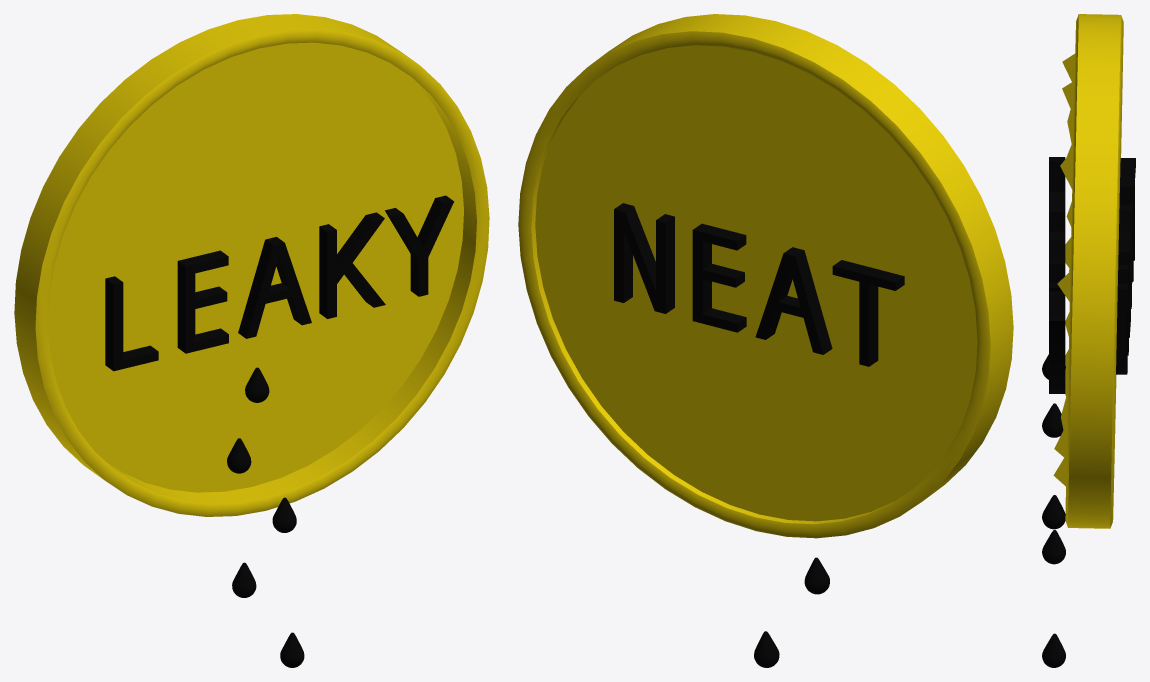
The model's file is LEKAY_COIN_FINAL.fbx.
3 views of the same model, side by side, from view 1: azimuth 30°, elevation 25°; view 2: azimuth 150°, elevation 25°; view 3: azimuth 270°, elevation 25° (orthographic). The views are drawn at different scales.
Visible parts, largest first — view 1: NEAT_COIN, LEAKY_TEXT; view 2: NEAT_COIN, NEAT_TEXT; view 3: NEAT_COIN, LEAKY_TEXT, NEAT_TEXT, DROP3, DROP2, DROP4, DROP1.
Boxes of the visible parts, bbox=[...] form: NEAT_COIN: bbox=[14, 14, 489, 516]; LEAKY_TEXT: bbox=[105, 195, 453, 371]; NEAT_COIN: bbox=[518, 14, 1013, 538]; NEAT_TEXT: bbox=[614, 203, 904, 366]; NEAT_COIN: bbox=[1053, 14, 1123, 528]; LEAKY_TEXT: bbox=[1049, 157, 1065, 393]; NEAT_TEXT: bbox=[1116, 158, 1135, 374]; DROP3: bbox=[1042, 530, 1065, 564]; DROP2: bbox=[1042, 495, 1065, 529]; DROP4: bbox=[1042, 633, 1065, 667]; DROP1: bbox=[1042, 403, 1063, 437].
Bounding box in the file's own units: 3 × 3.99 × 0.5476.
